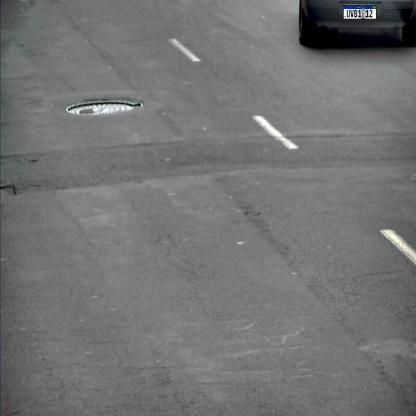PlacaM: (343, 5, 377, 19)
